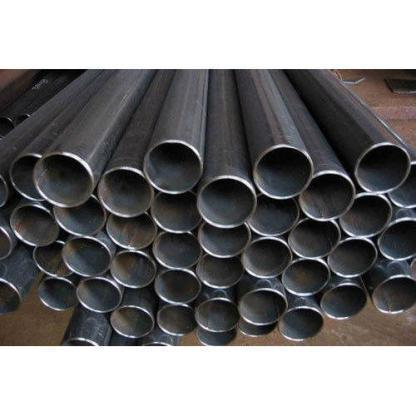pipe: (32, 153, 92, 208), (144, 140, 202, 194), (254, 146, 313, 199), (197, 178, 256, 228), (354, 142, 410, 194), (300, 172, 356, 221), (98, 168, 152, 218), (340, 195, 392, 238), (150, 191, 202, 233), (247, 194, 299, 236), (287, 218, 341, 258), (54, 196, 107, 235), (242, 237, 292, 278), (10, 204, 58, 246), (62, 237, 112, 277), (328, 238, 378, 278), (9, 154, 50, 202), (198, 222, 250, 259), (282, 258, 331, 296), (106, 214, 158, 249), (239, 289, 288, 326), (152, 232, 202, 268), (370, 274, 415, 314), (111, 250, 156, 289), (196, 254, 244, 289), (154, 269, 202, 304), (322, 284, 368, 320), (278, 306, 324, 342), (32, 240, 74, 278), (378, 219, 415, 262), (76, 278, 122, 312), (195, 298, 239, 332), (112, 306, 154, 338), (38, 278, 78, 311), (157, 304, 197, 336)
